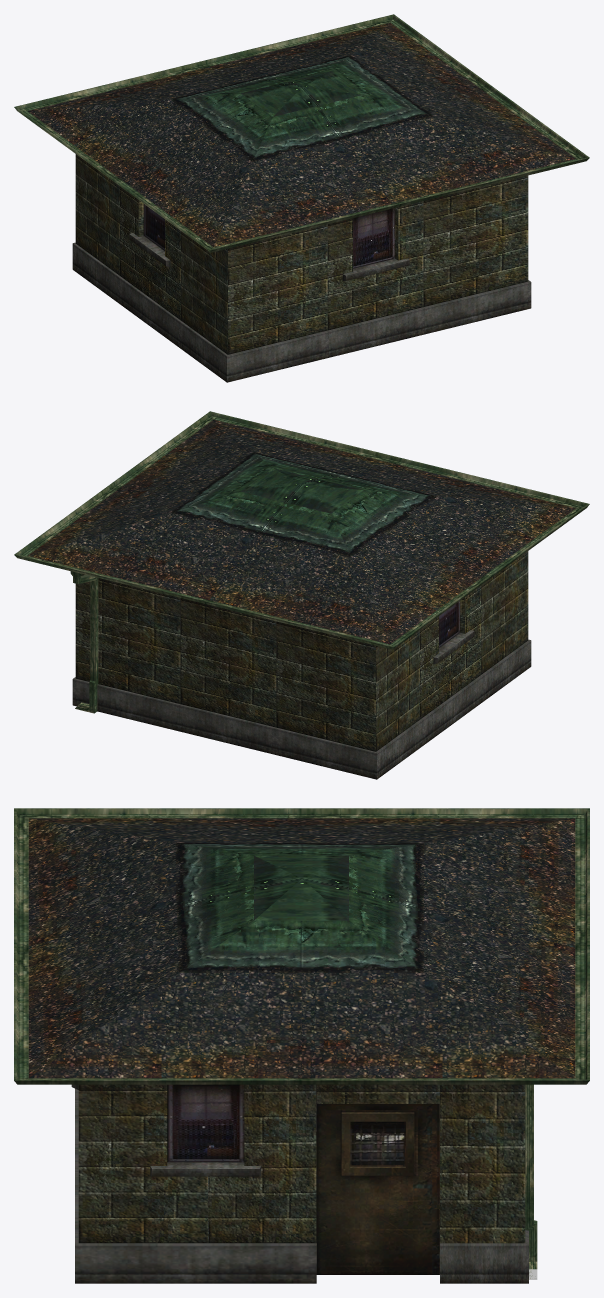
File: oracle_shack.fbx
3 views of the same model, one above another, from view 1: azimuth 30°, elevation 25°; view 2: azimuth 150°, elevation 25°; view 3: azimuth 270°, elevation 25° (orthographic). The views are drawn at different scales.
Parts seen in each view (by area): view 1: mesh_2, mesh_1; view 2: mesh_2, mesh_1; view 3: mesh_2, mesh_1.
Boxes of the visible parts, x1,y1,x2,y2 form: mesh_2: (14,14,589,252); mesh_1: (72,154,531,382); mesh_2: (14,411,589,713); mesh_1: (72,551,531,779); mesh_2: (14,808,589,1278); mesh_1: (71,1084,528,1283).
Bounding box in the file's own units: 754 × 382 × 674.
